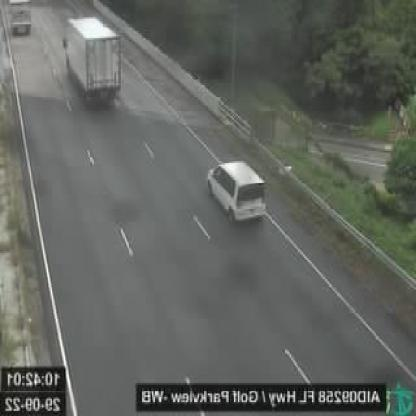Car: (204, 156, 269, 222)
Truck: (58, 14, 124, 107), (8, 0, 36, 42)
